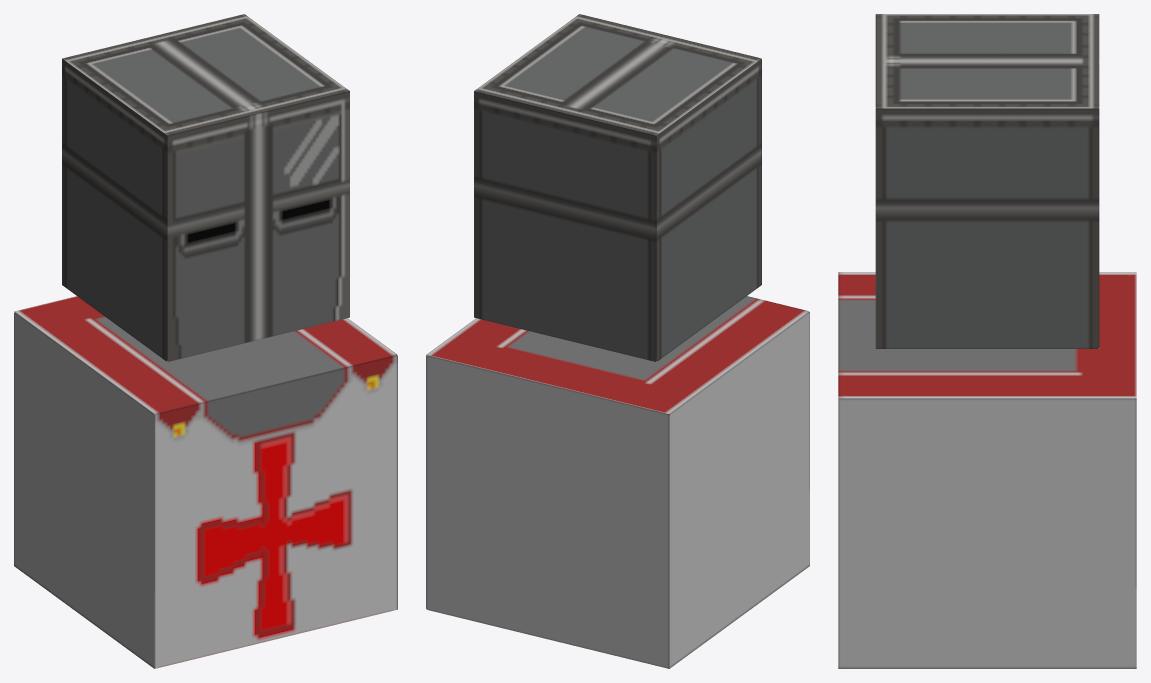
File: Soldado.fbx
The picture shows the model from 3 angles, left to right: view 1: azimuth 30°, elevation 25°; view 2: azimuth 150°, elevation 25°; view 3: azimuth 270°, elevation 25°; orthographic projection. The views are drawn at different scales.
Parts seen in each view (by area): view 1: Templario; view 2: Templario; view 3: Templario.
Part boxes in pixels (x1,y1,x2,y2): Templario: (14,14,397,668); Templario: (426,14,809,668); Templario: (838,14,1136,668).
Bounding box in the file's own units: 96.54 × 194 × 96.54.
2 materials, 2 textured.
